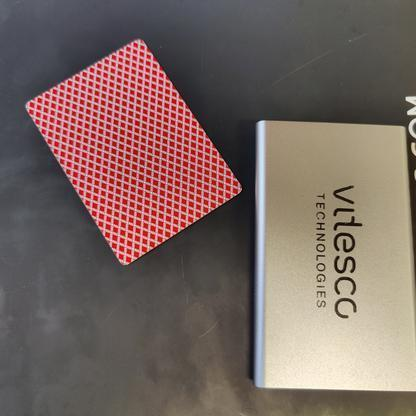card: (13, 29, 252, 271)
